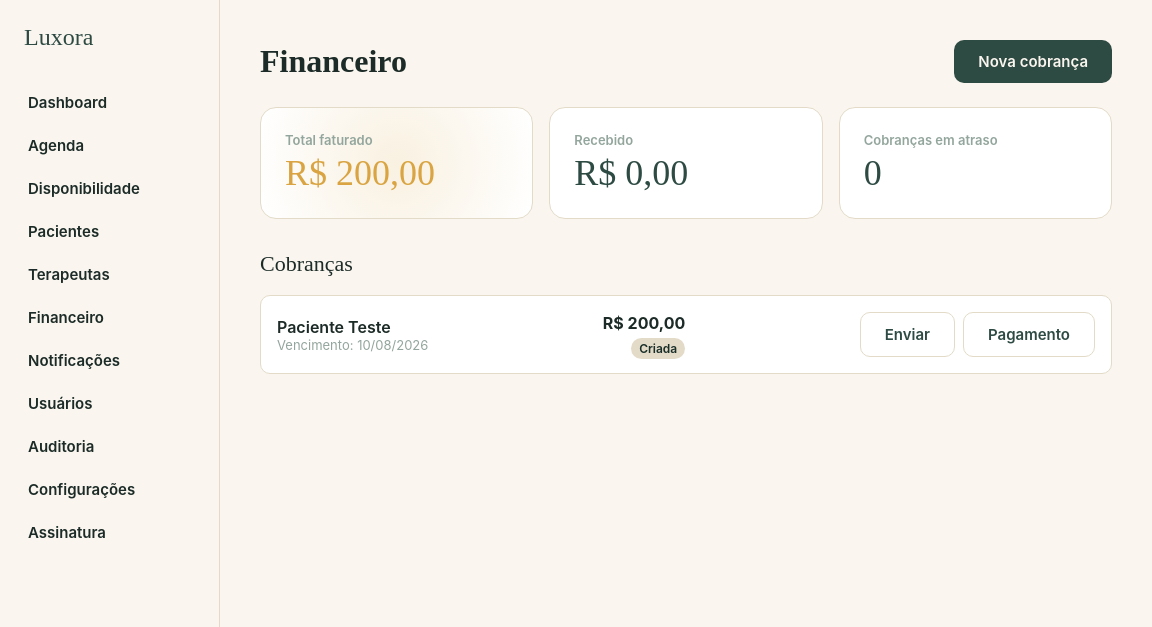
Test: FinanceiroPage — criar cobrança › paciente sem sessão a cobrar: explica de onde vêm as sessões
Click the button "Nova cobrança": (1033, 62) [954,40,1112,83]
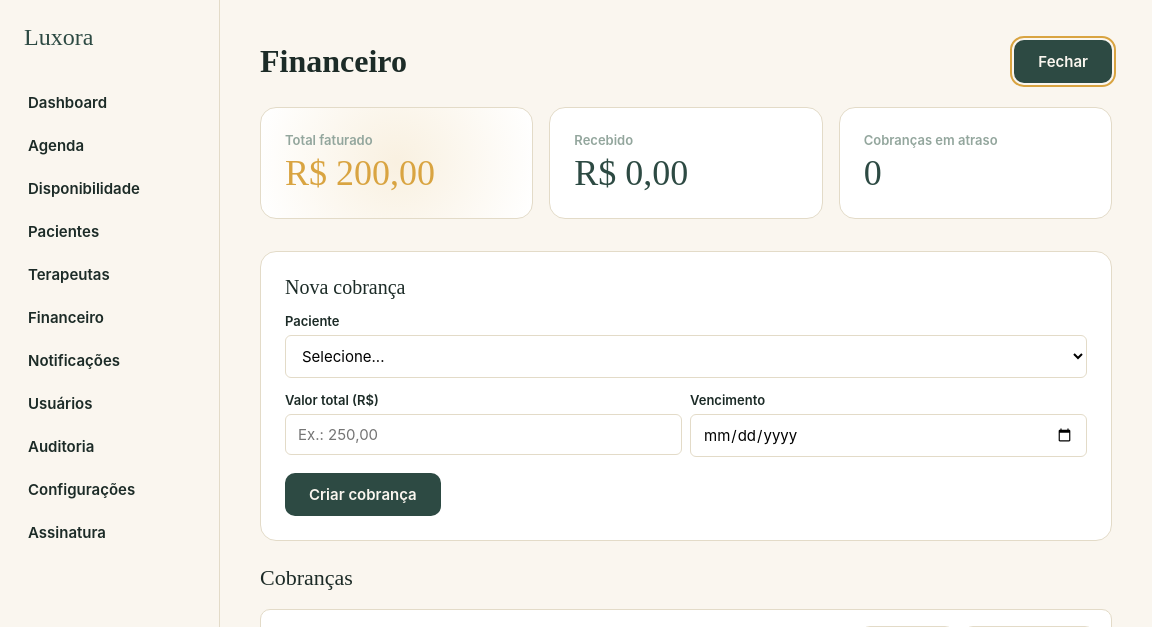
Select "Paciente Teste" in the dropdown labelled "Paciente": (686, 356) [285,335,1087,378]
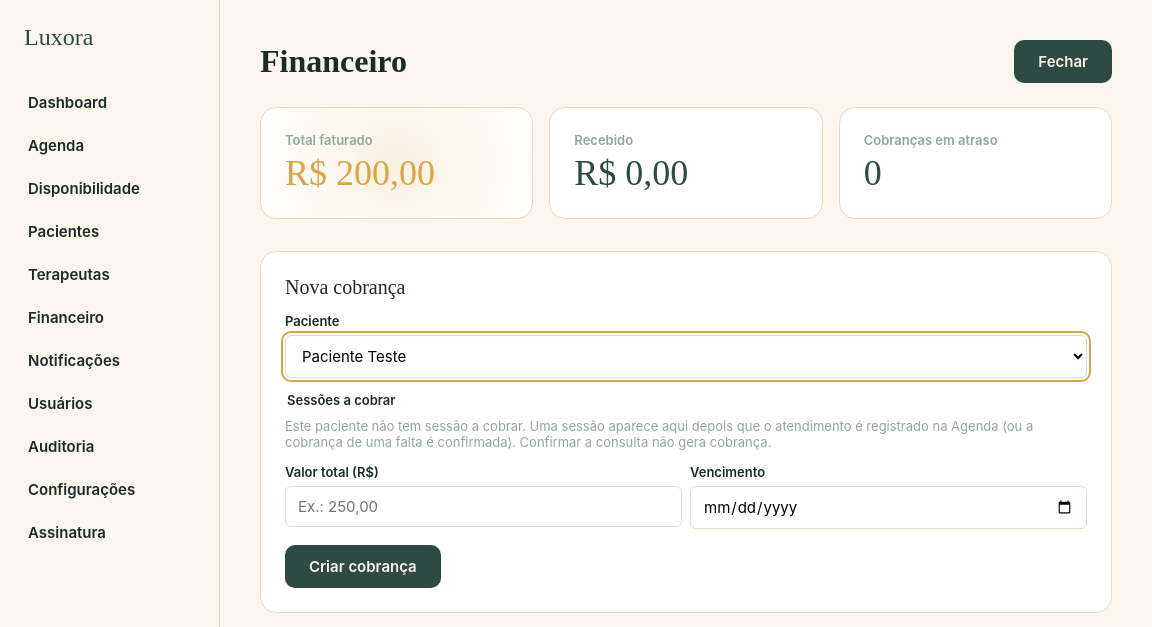
expect the text "não tem sessão a cobrar" shows "depois que o atendimento é registrado na Agenda": met, box [285,418,1033,450]
expect the text "não tem sessão a cobrar" shows "confirmar a consulta não gera cobrança": met, box [285,418,1033,450]
